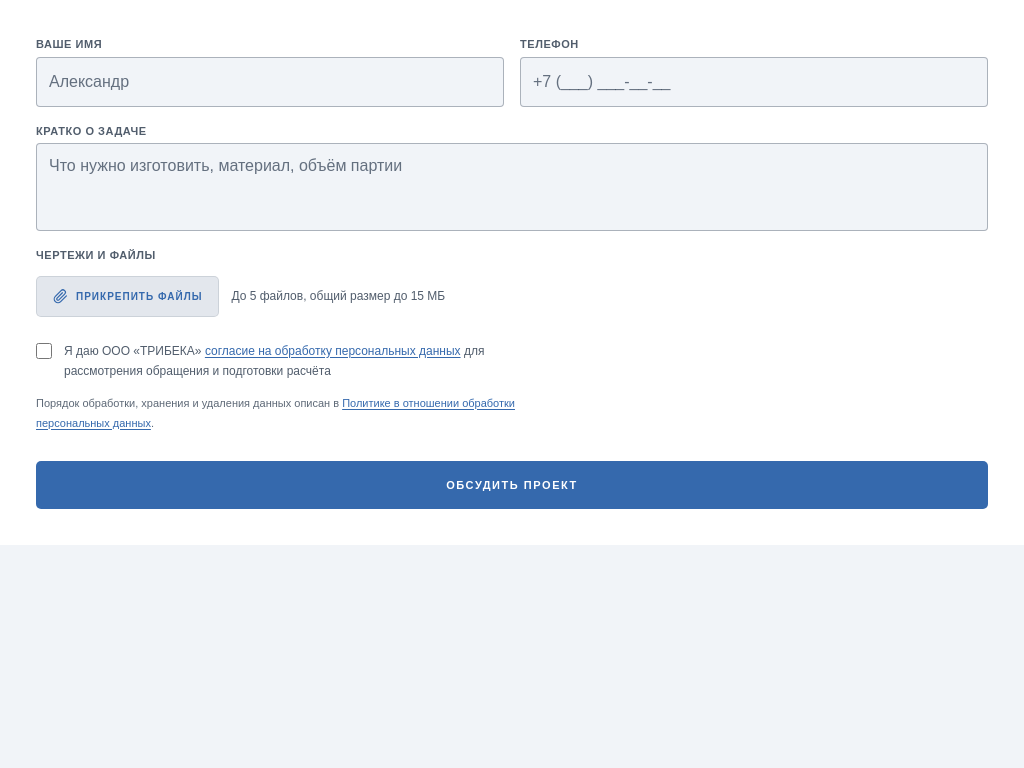
it: RequestForm › retries a failed request without clearing fields
Step 1. Type "Тест" into the field labelled "Ваше имя" → x=270, y=82, box [36,56,504,106]
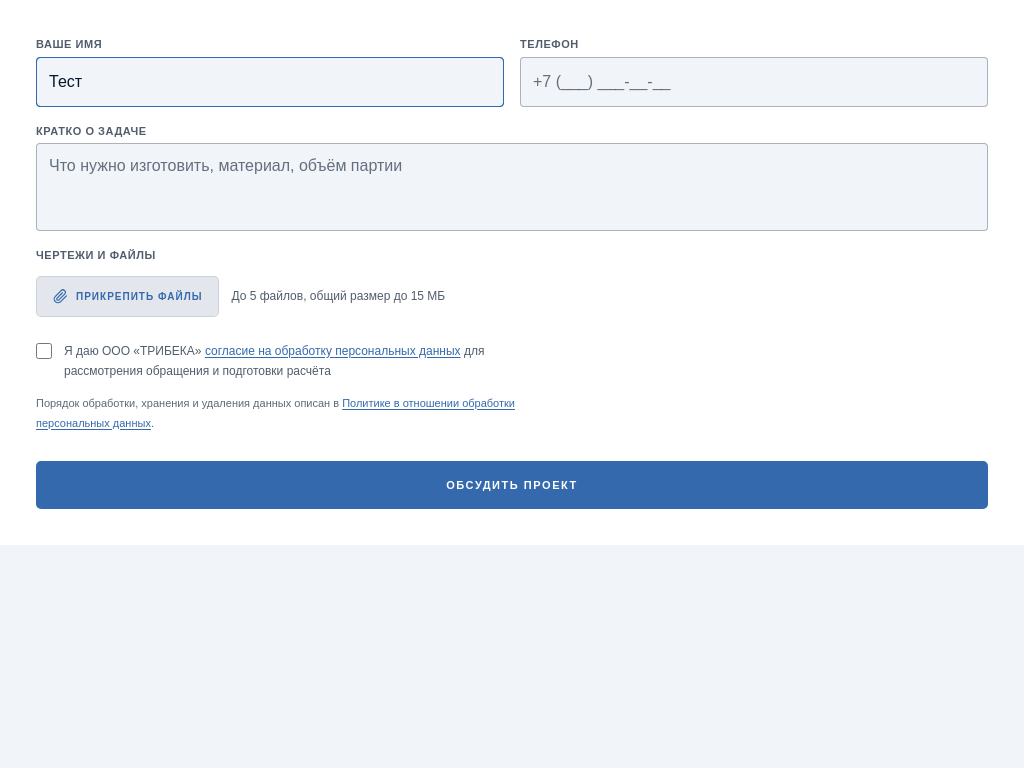
Step 2. Type "+79062603060" into the field labelled "Телефон" → x=754, y=82, box [520,56,988,106]
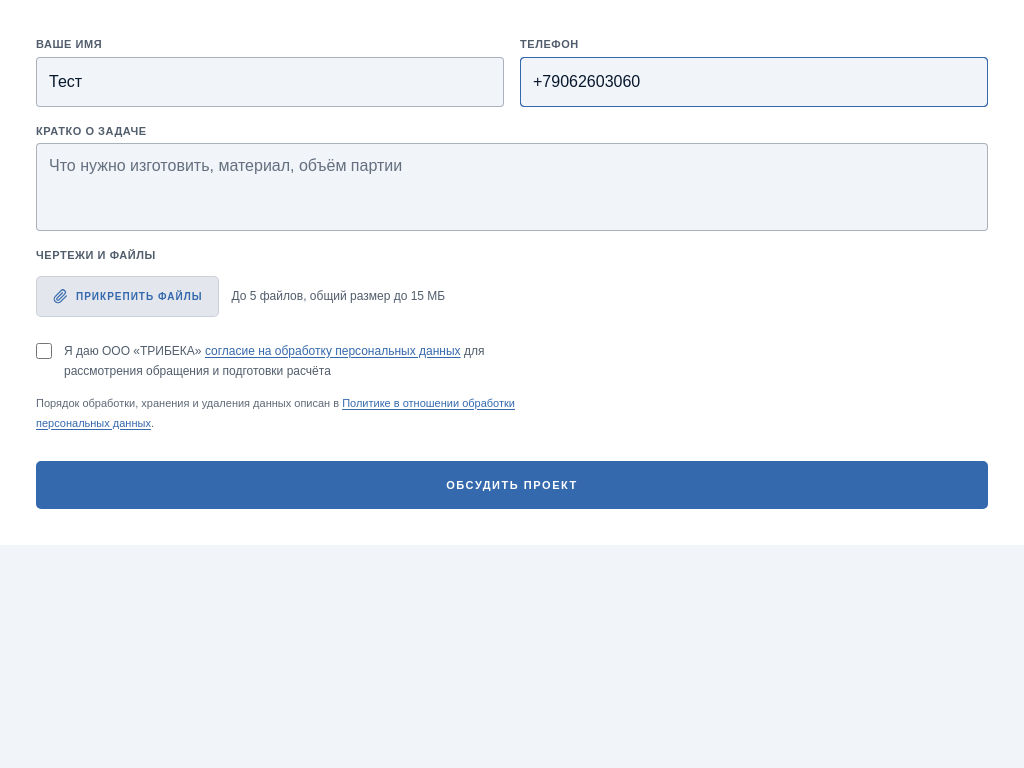
Step 3. Click the checkbox → x=44, y=350, box [36,342,52,358]
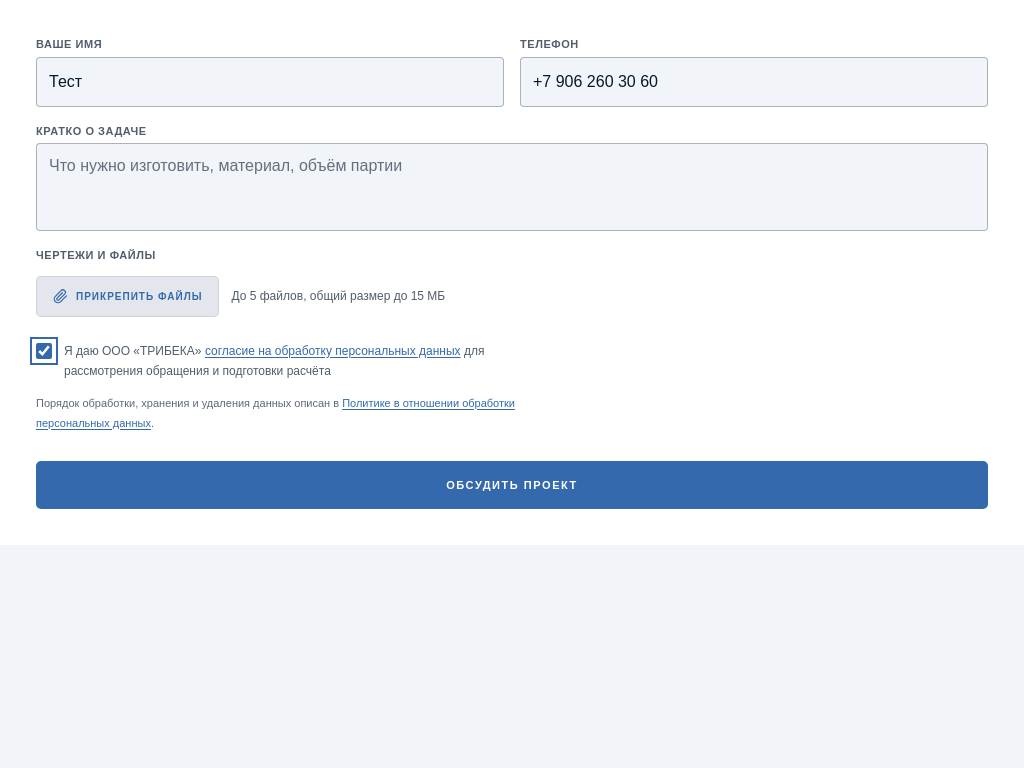
Step 4. Click the button "Обсудить проект" → x=512, y=485, box [36,460,988,509]
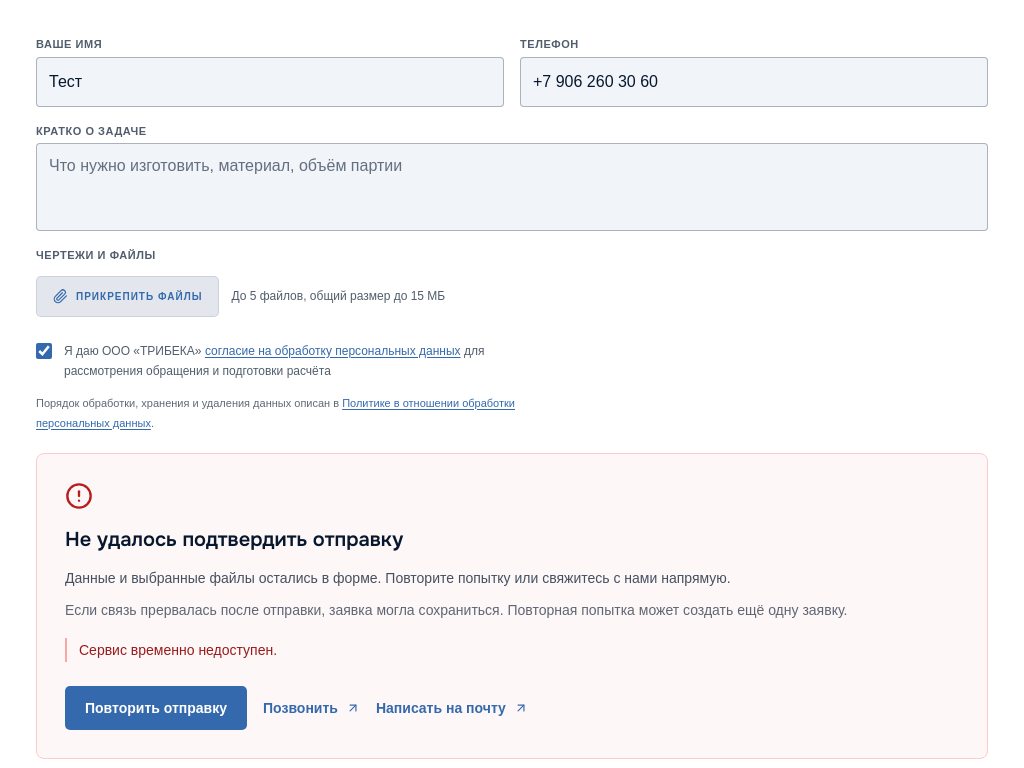
Result: the heading "Не удалось подтвердить отправку" is shown at [65,526,403,552]
Step 5. Click the button "Повторить отправку" → x=156, y=708, box [65,686,247,730]
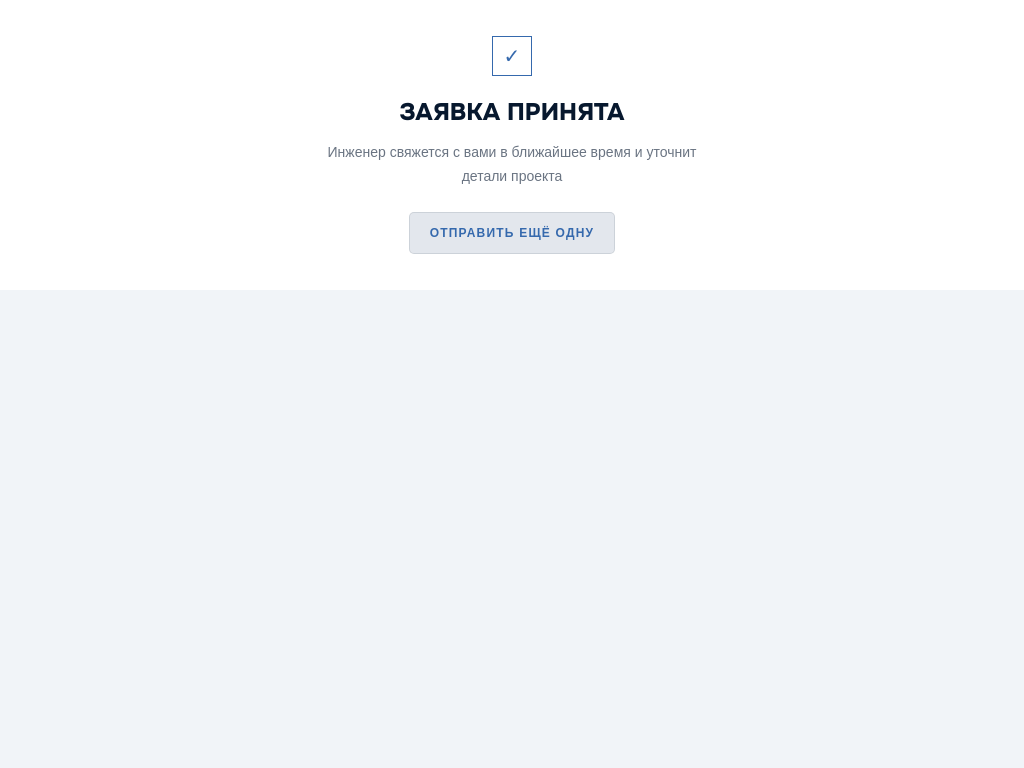
Result: the heading "Заявка принята" is shown at [400,96,624,128]
Result: the text "в ближайшее время" is shown at [328,144,696,184]
